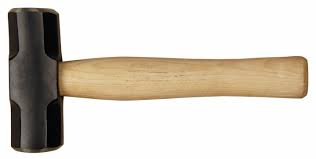hammer: (7, 6, 309, 154)
